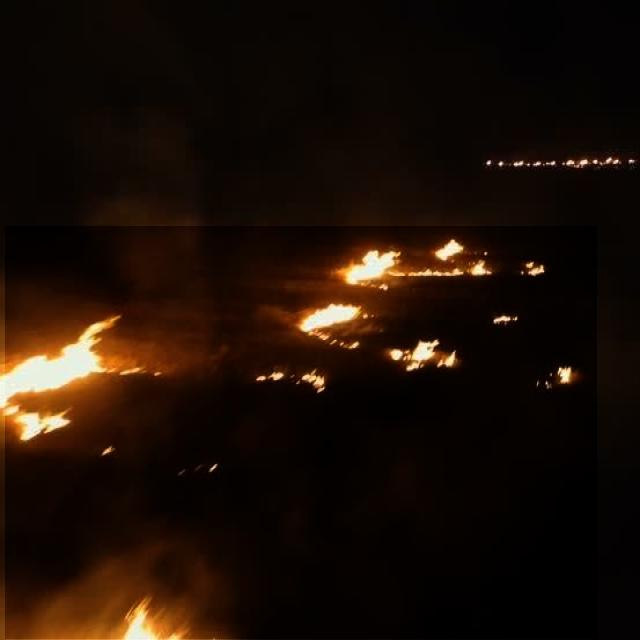Fire: (5, 226, 597, 639)
